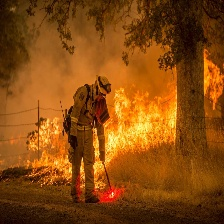fire: (26, 83, 177, 183), (203, 48, 224, 104)
smoke: (3, 9, 162, 97)
